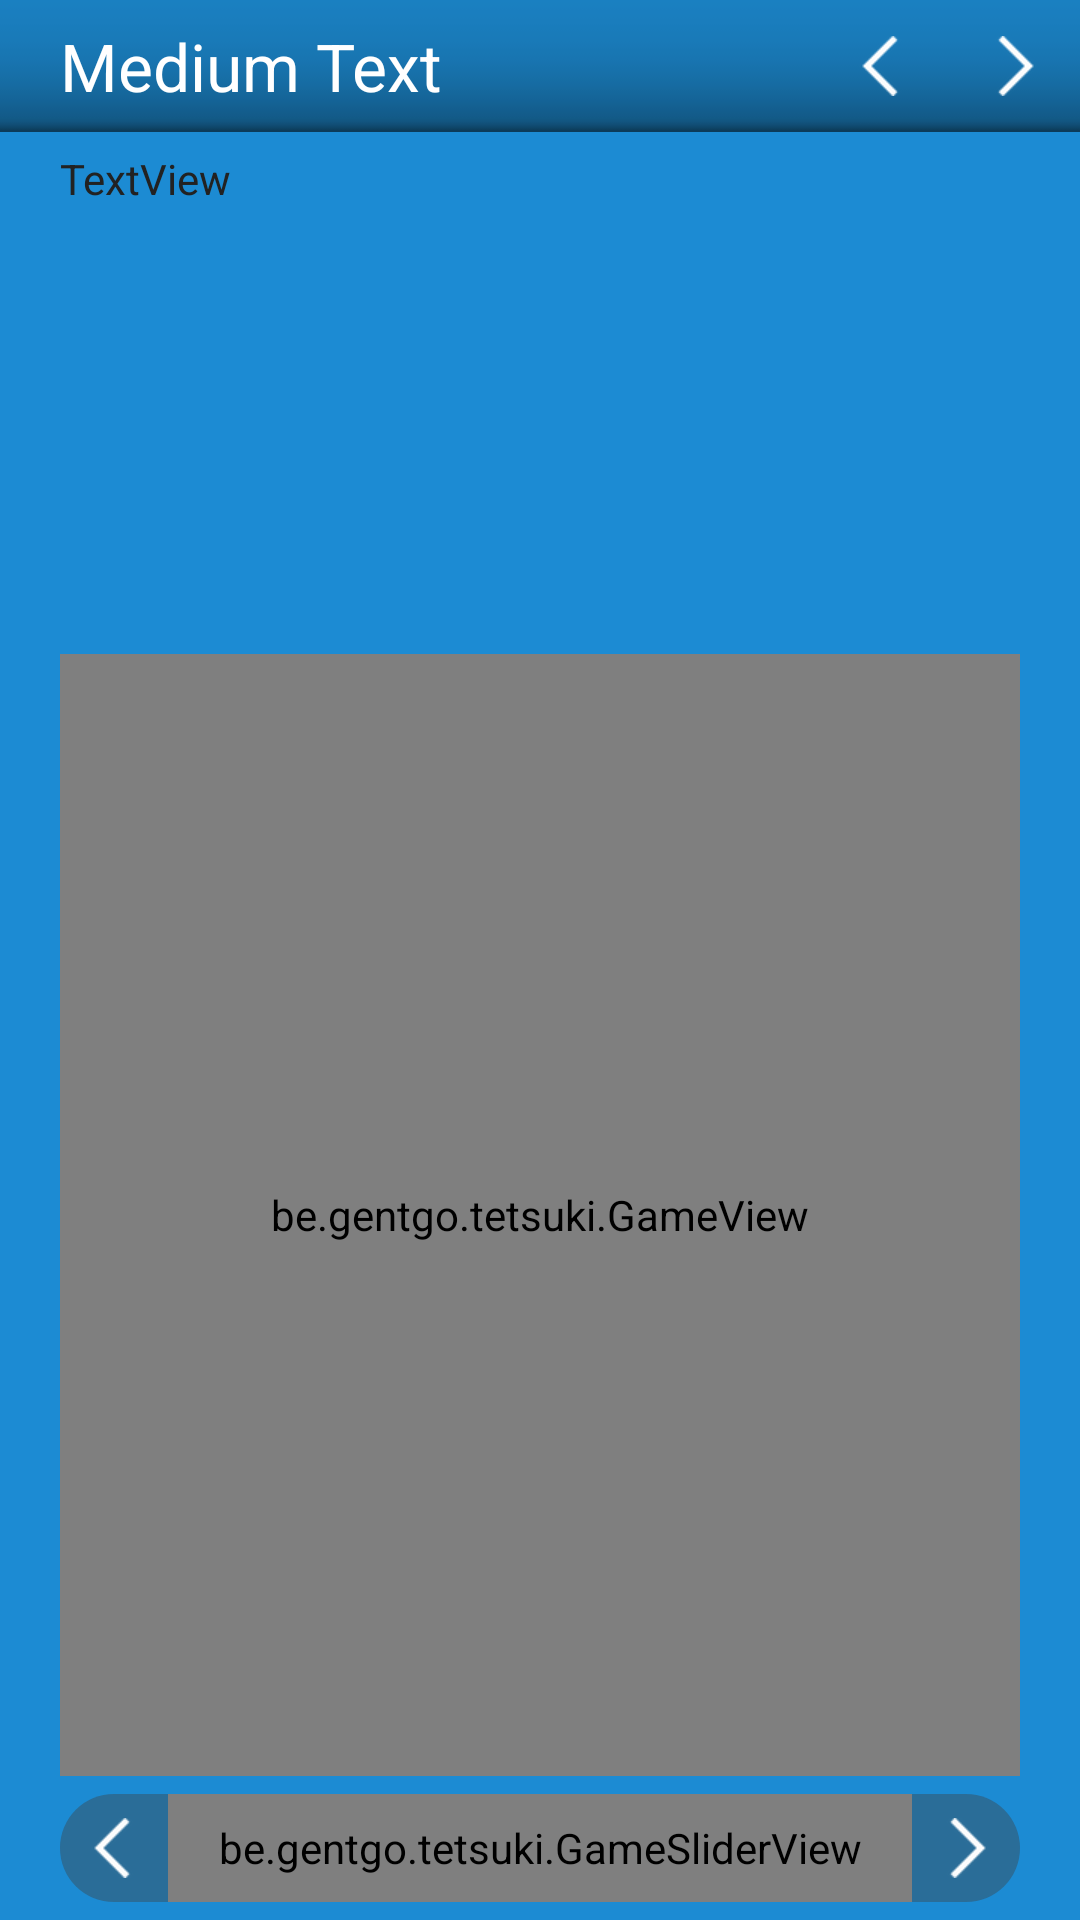

Point at icon controls on the screen. Image size 1080*1920, points as (x,y).
left: (882,66), (114,1848)
right: (1014,80), (966,1848)
